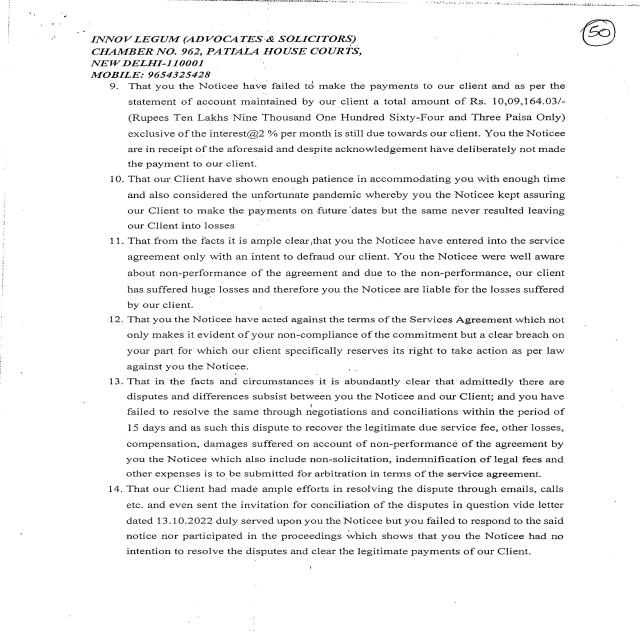page-number: (430, 10, 634, 70)
